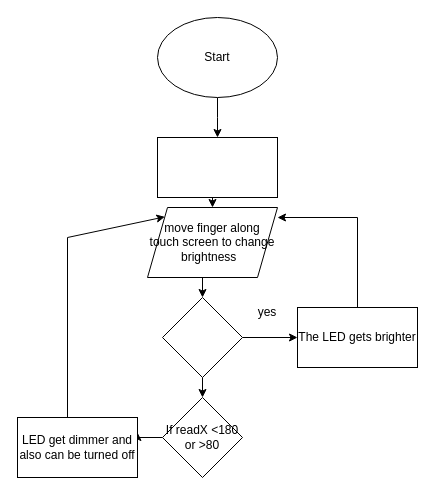
Some shapes in this 435 by 495 pixel diagram are drawn without their labels. Each missing label, with the centre of its shape:
"if readX >=180 or <950" belongs at pixel 202 337.
"LED lights up" belongs at pixel 217 167.
